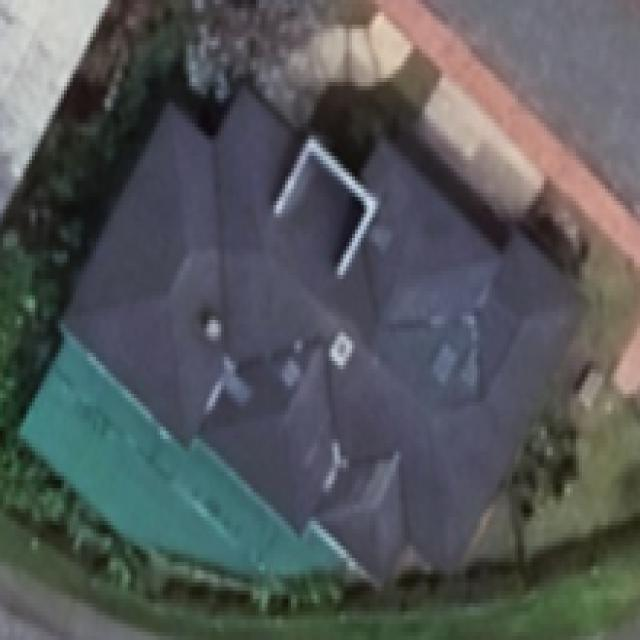Batiment: (65, 90, 578, 577)
